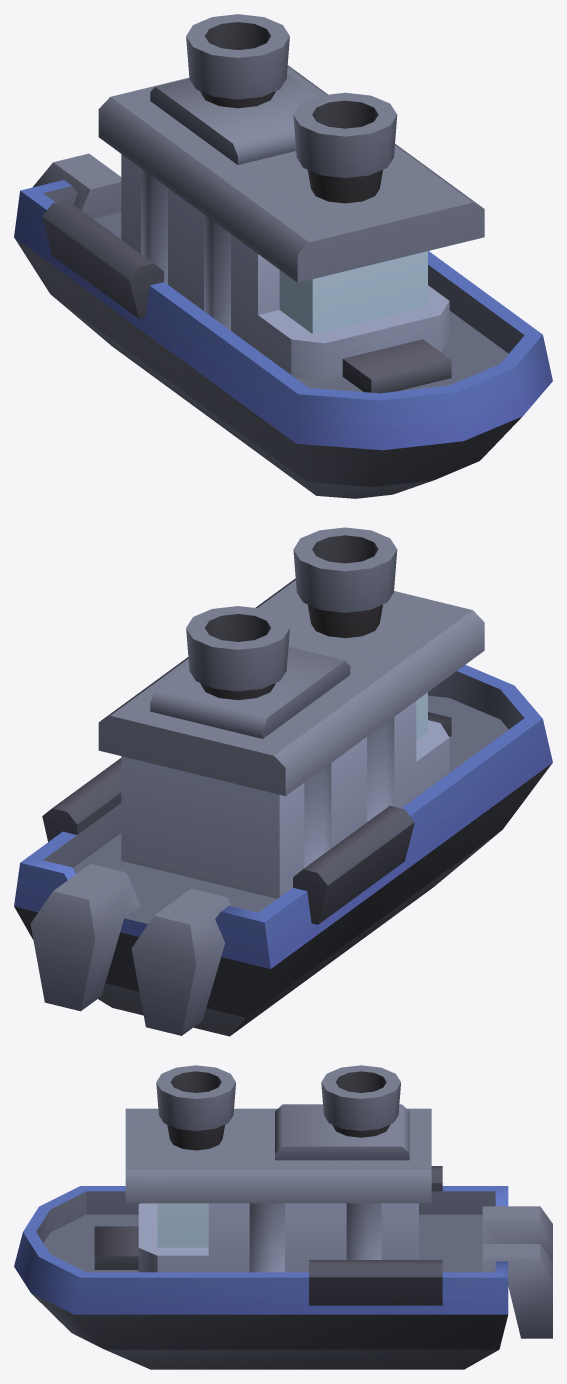
Rendered from boat-tow-a-transformed.glb.
3 views of the same model, one above another, from view 1: azimuth 30°, elevation 25°; view 2: azimuth 150°, elevation 25°; view 3: azimuth 270°, elevation 25° (orthographic). The views are drawn at different scales.
Visible parts, largest first — view 1: boat-tow-a; view 2: boat-tow-a; view 3: boat-tow-a.
Boxes of the visible parts, x1,y1,x2,y2 form: boat-tow-a: (14,14,552,498); boat-tow-a: (14,527,552,1036); boat-tow-a: (14,1065,552,1369).
Size of the model in its own units: 2.88 by 3.33 by 6.12.
Materials: 1 (1 with a texture image).
